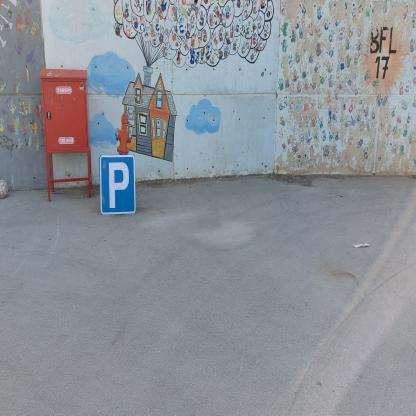Parking-Sign: (100, 156, 137, 216)
